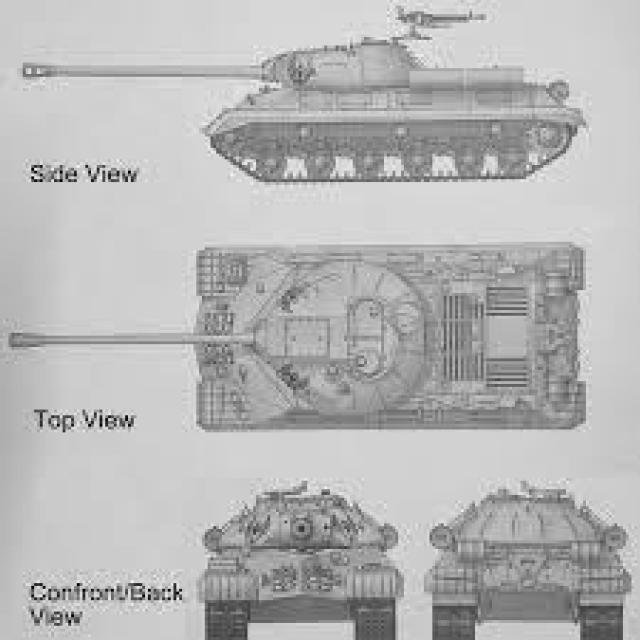Tanks: (179, 226, 595, 442), (104, 28, 587, 190), (417, 489, 630, 637), (194, 478, 398, 628)
